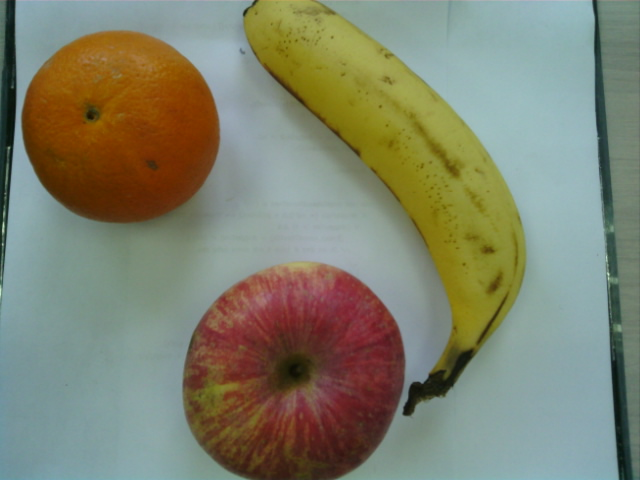normal_apple: (179, 259, 407, 480)
normal_banana: (242, 1, 528, 348)
normal_orange: (21, 29, 223, 225)
